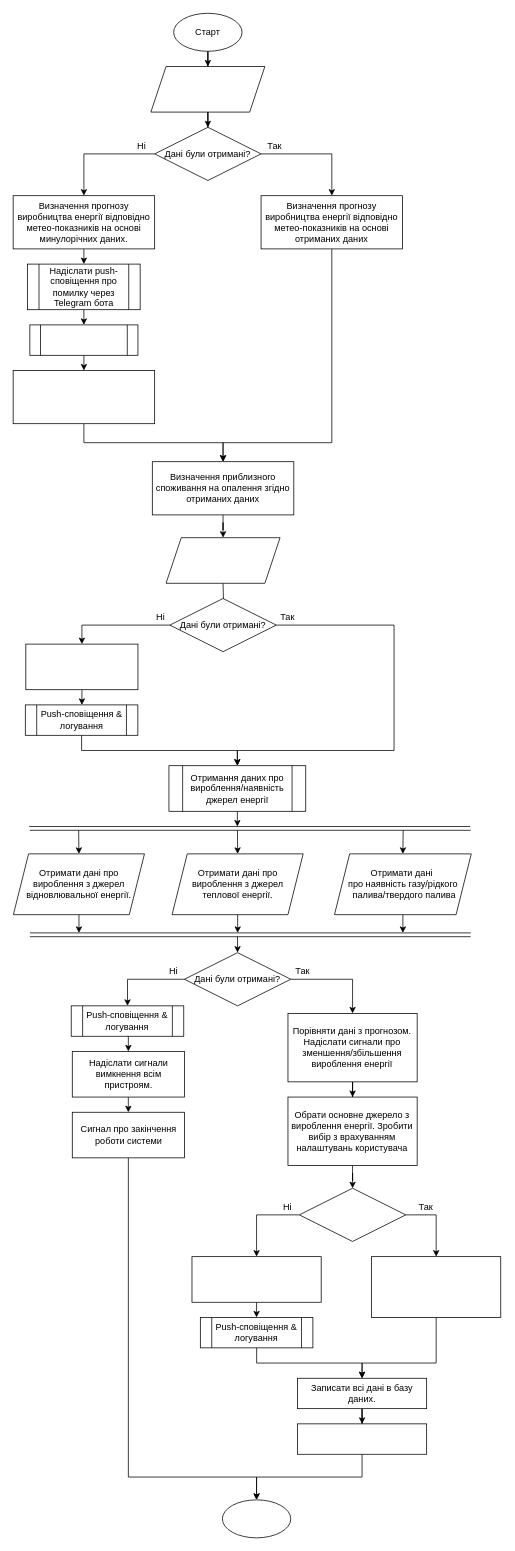
This 515x1551 diagram has some shape labels left out. Here are the shapes that lost their labels. From the top down, the centre of each, then its label:
point (207, 89): Отримати погодні дані з API метеослужб
point (83, 339): Залогувати проблему
point (83, 397): Визначення приблизних температурних показників згідно минулорічних даних
point (222, 560): Отримати дані про поточне споживання.
point (81, 666): Зробити прогноз за допомогою нейро-моделі, споживання на 24 години наперед.
point (352, 1214): Чи вистачає енергії?
point (256, 1279): Активація додаткових джерел енергії/споживання з акумулятору.
point (436, 1286): Прийняти рішення щодо оптимізації вироблення енергії відносно зібраних даних.
point (362, 1438): Візуалізувати дані відносно споживання та вироблення.
point (256, 1518): Кінець
